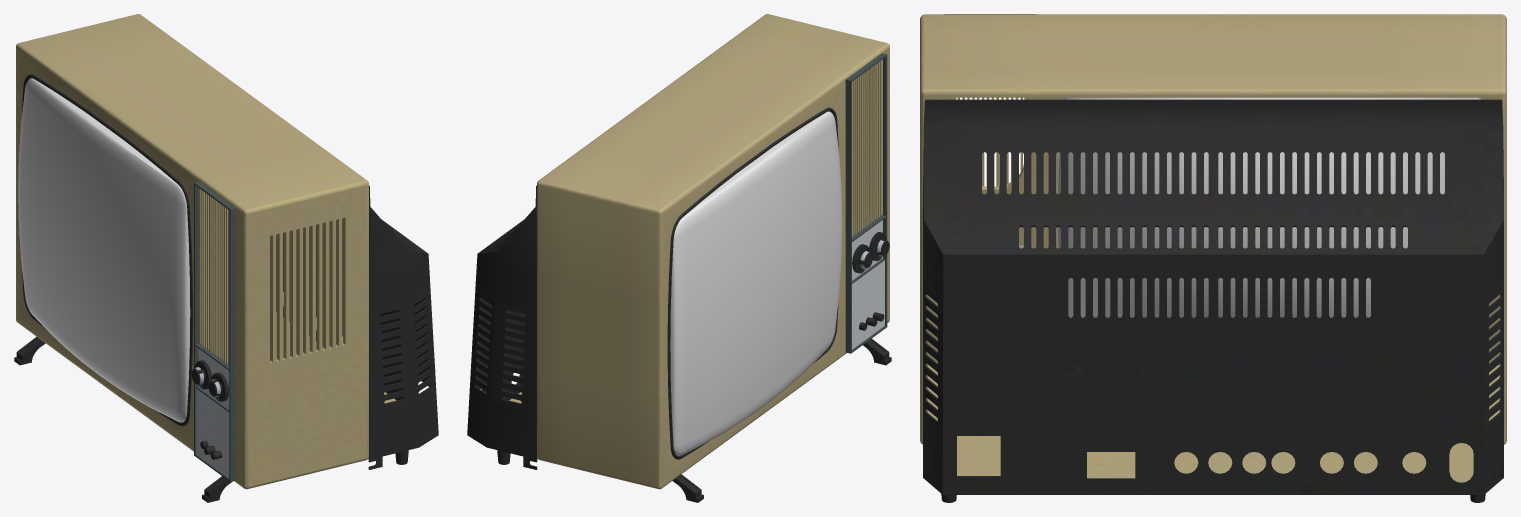
The model's file is brown_tv.fbx.
The picture shows the model from 3 angles, left to right: view 1: azimuth 30°, elevation 25°; view 2: azimuth 150°, elevation 25°; view 3: azimuth 270°, elevation 25°; orthographic projection. The views are drawn at different scales.
Visible parts, largest first — view 1: Group01, tv7002; view 2: Group01, tv7002; view 3: Group01, tv7002.
Boxes of the visible parts, x1,y1,x2,y2 form: Group01: (14,14,438,502); tv7002: (18,78,190,422); Group01: (467,14,891,502); tv7002: (670,111,842,455); Group01: (920,14,1506,502); tv7002: (1057,97,1480,317).
Bounding box in the file's own units: 10.23 × 13.27 × 18.45.
1 material, 1 textured.
